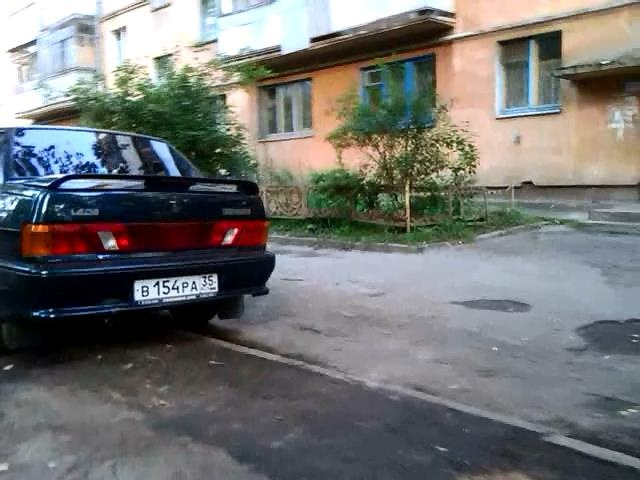car license plate: (132, 273, 218, 303)
